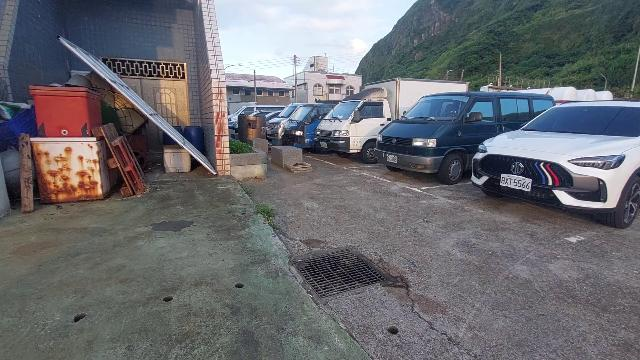pollute: (29, 71, 152, 206), (1, 100, 37, 147), (20, 133, 34, 211), (173, 126, 206, 155), (163, 144, 193, 172), (2, 145, 20, 189)
